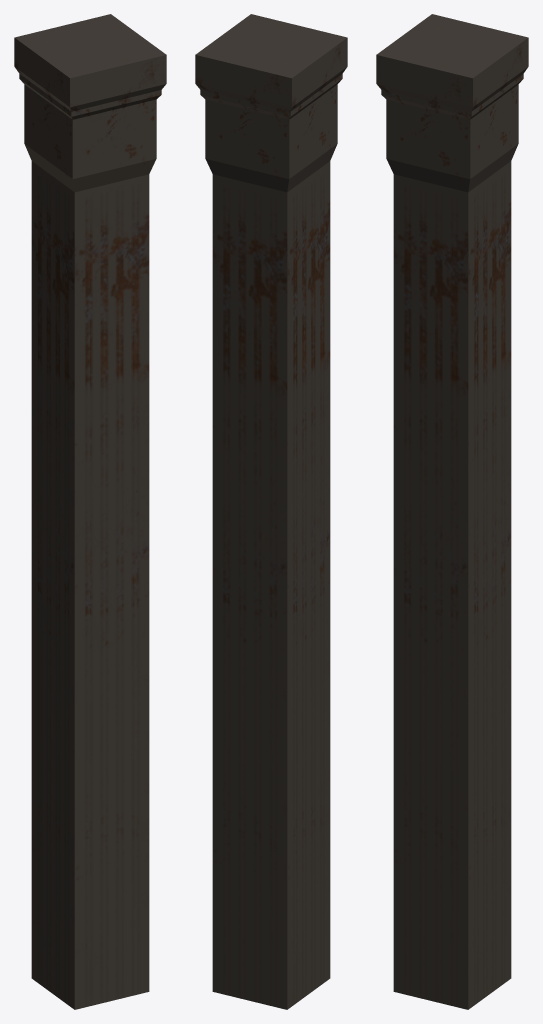
The model's file is Metal_Column_Small_Top.gltf.
3 renders of one model, left to right at view 1: azimuth 30°, elevation 25°; view 2: azimuth 150°, elevation 25°; view 3: azimuth 330°, elevation 25°, orthographic.
Visible parts, largest first — view 1: Metal_Column_Small_Top; view 2: Metal_Column_Small_Top; view 3: Metal_Column_Small_Top.
Part boxes in pixels (x1,y1,x2,y2): Metal_Column_Small_Top: (14, 14, 166, 1009); Metal_Column_Small_Top: (195, 14, 347, 1009); Metal_Column_Small_Top: (376, 14, 528, 1009).
Bounding box in the file's own units: 0.3221 × 3 × 0.3223.
Materials: 1 (1 with a texture image).
